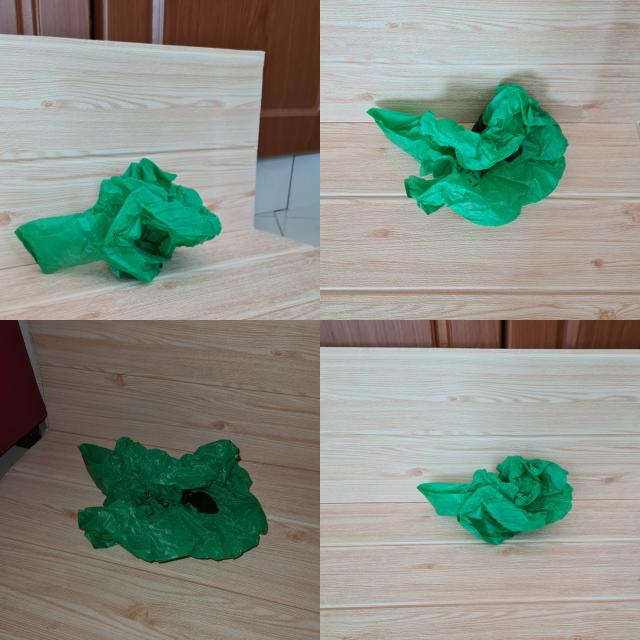Single-layer Plastic: (368, 84, 568, 226), (15, 159, 221, 281), (78, 438, 268, 562), (418, 456, 572, 545)
